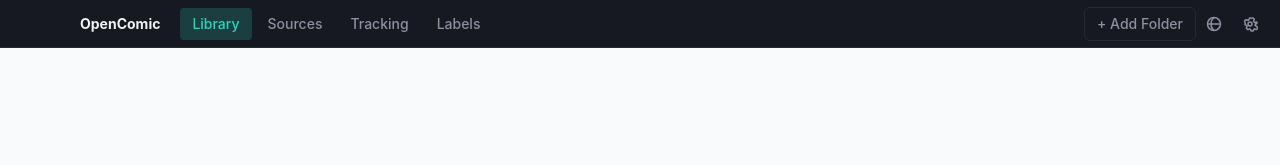
Test: TopNav – settings dropdown › clicking gear opens the dropdown
The image size is (1280, 165).
Step 1. Click the button named "settings" → (1250, 24), box x1=1236 y1=10 x2=1264 y2=38
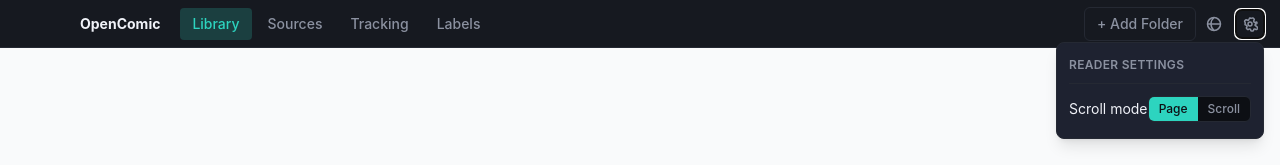
expect the text "Reader Settings" is shown: met, box x1=1069 y1=56 x2=1184 y2=72
